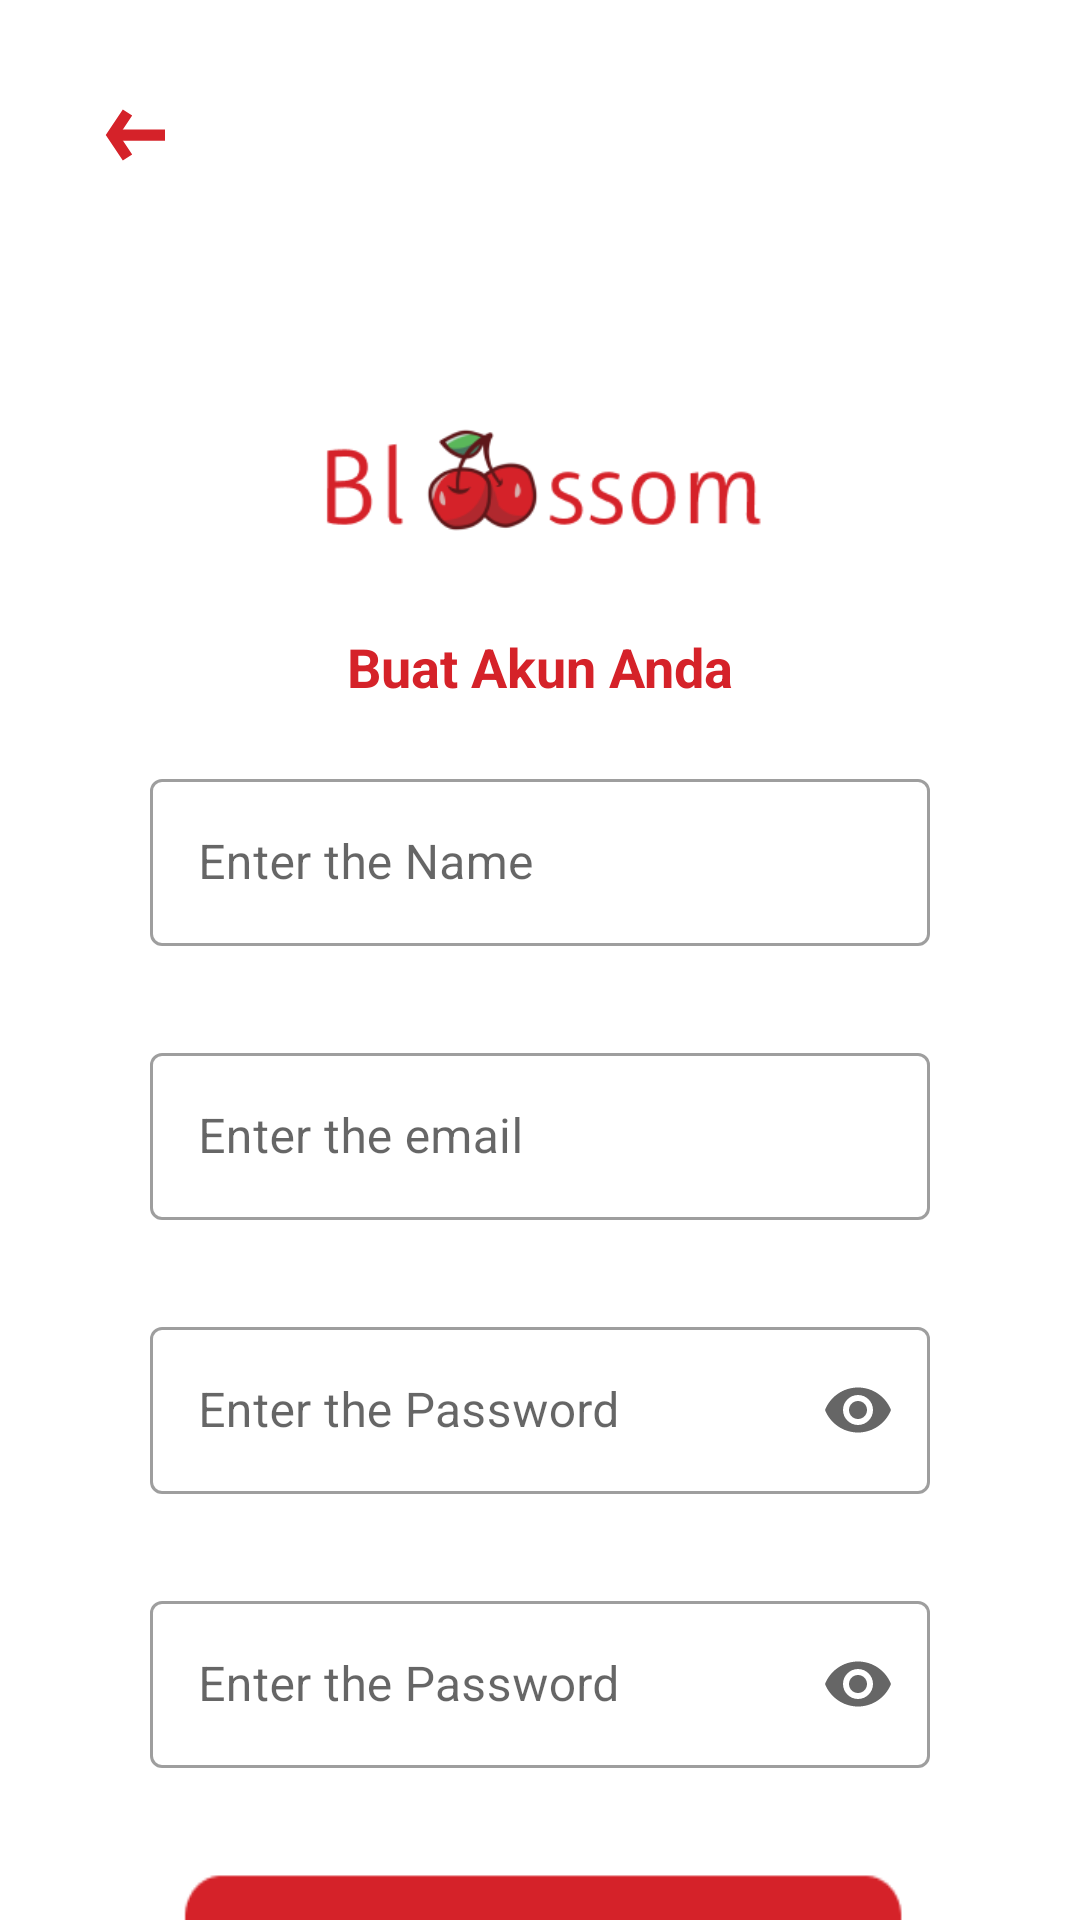

Icon click points for this 1080px x 1920px phone screenshot, format [x,y]:
back: [135,135]
